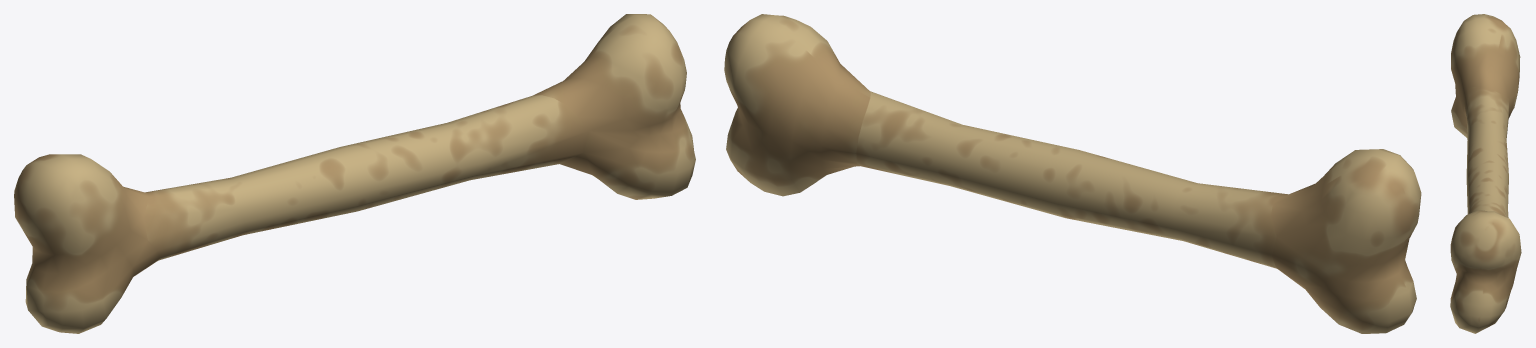
The model's file is bone_model.obj.
The picture shows the model from 3 angles, left to right: view 1: azimuth 30°, elevation 25°; view 2: azimuth 150°, elevation 25°; view 3: azimuth 270°, elevation 25°; orthographic projection. The views are drawn at different scales.
Parts seen in each view (by area): view 1: Bone_low:Bone_low_Untitled; view 2: Bone_low:Bone_low_Untitled; view 3: Bone_low:Bone_low_Untitled.
Part boxes in pixels (<box>): Bone_low:Bone_low_Untitled: <box>14,14,695,333</box>; Bone_low:Bone_low_Untitled: <box>724,14,1421,333</box>; Bone_low:Bone_low_Untitled: <box>1450,14,1521,333</box>.
Bounding box in the file's own units: 0.6643 × 0.1719 × 0.092.
